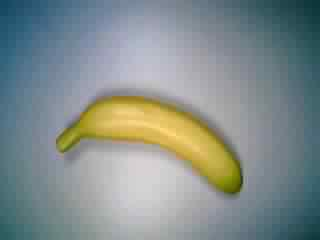banana: (52, 89, 248, 198)
